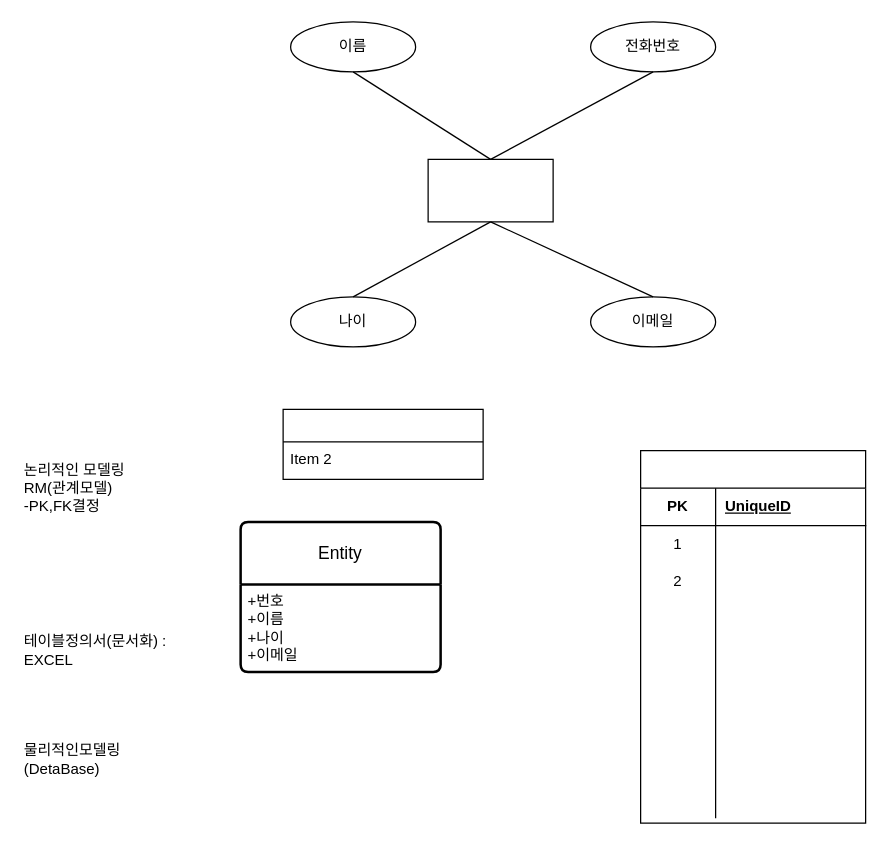
This 888x845 diagram has some shape labels left out. The box of each missing label's shape, as (x1, y1, x2, y2) in pixels:
List: (282, 408, 483, 479)
Table: (639, 449, 866, 823)
학생: (427, 158, 553, 222)
